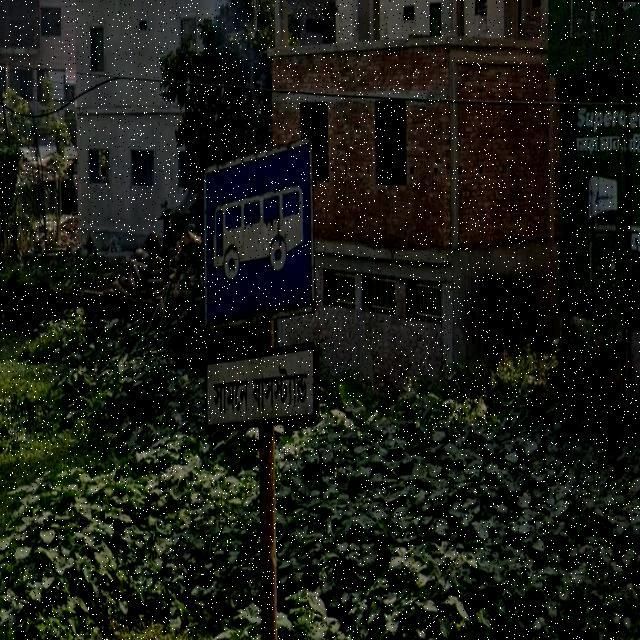Ahead-the-bus-station: (203, 144, 356, 460)
